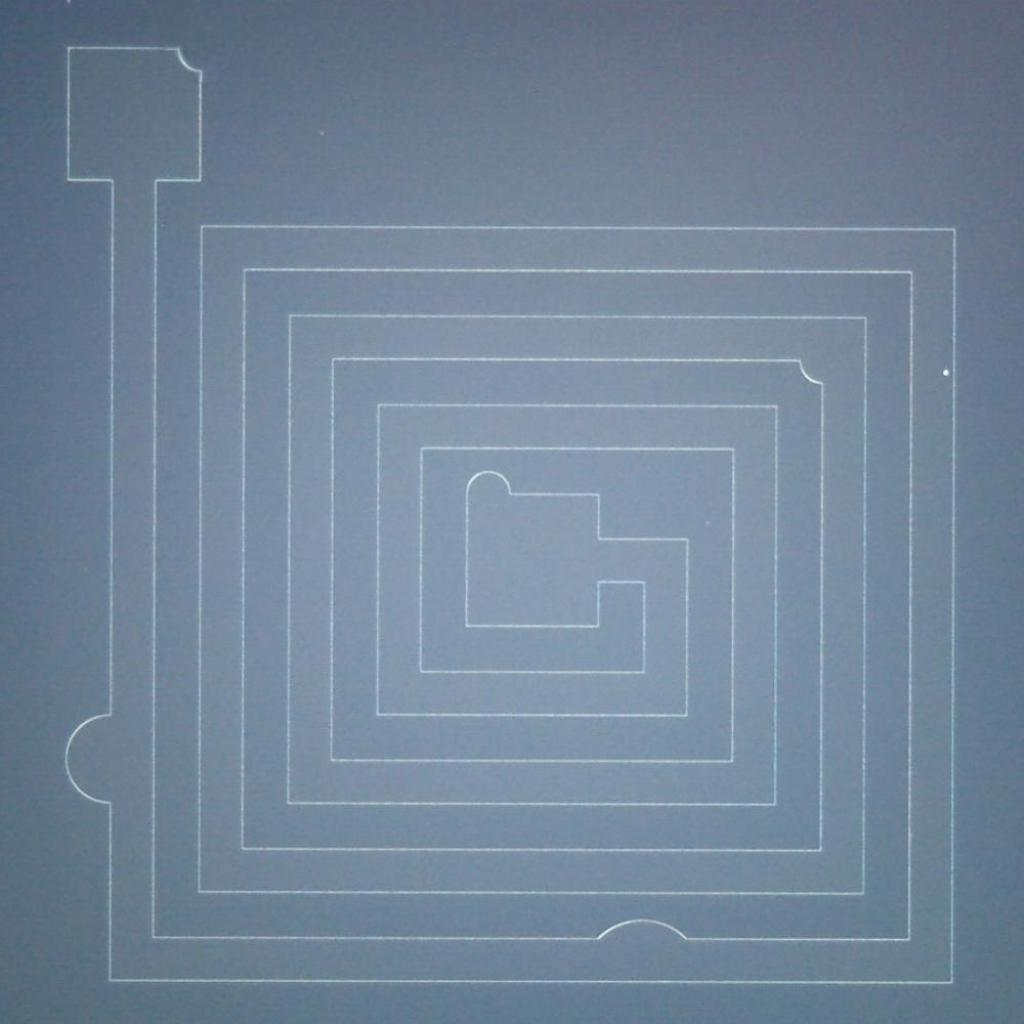curve circuit: (57, 695, 122, 822), (591, 900, 695, 950), (454, 462, 521, 510), (159, 35, 211, 82), (790, 346, 832, 392)
dot: (934, 356, 952, 387)
